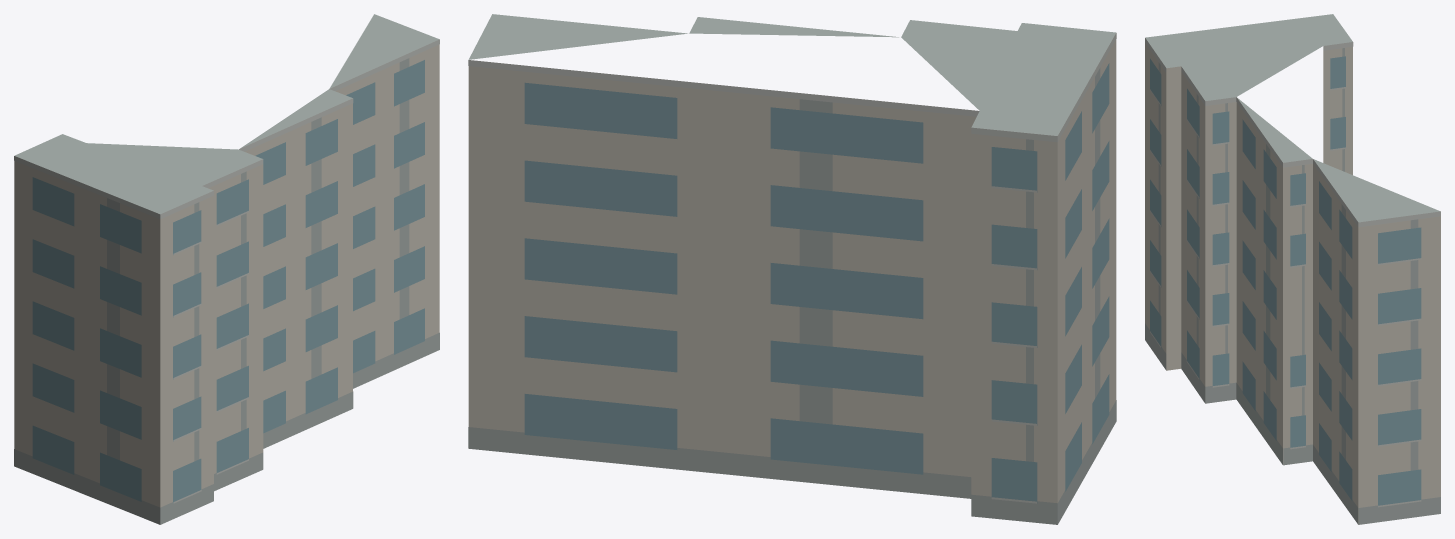
The model's file is survey-upis-32766593.glb.
3 renders of one model, left to right at view 1: azimuth 30°, elevation 25°; view 2: azimuth 150°, elevation 25°; view 3: azimuth 270°, elevation 25°, orthographic. The views are drawn at different scales.
Parts seen in each view (by area): view 1: survey-upis-32766593.tmp; view 2: survey-upis-32766593.tmp; view 3: survey-upis-32766593.tmp.
Boxes of the visible parts, x1=… form: survey-upis-32766593.tmp: x1=14, y1=14, x2=439, y2=524; survey-upis-32766593.tmp: x1=468, y1=14, x2=1116, y2=524; survey-upis-32766593.tmp: x1=1145, y1=14, x2=1440, y2=524.
Size of the model in its own units: 22.55 by 15.25 by 13.53.
